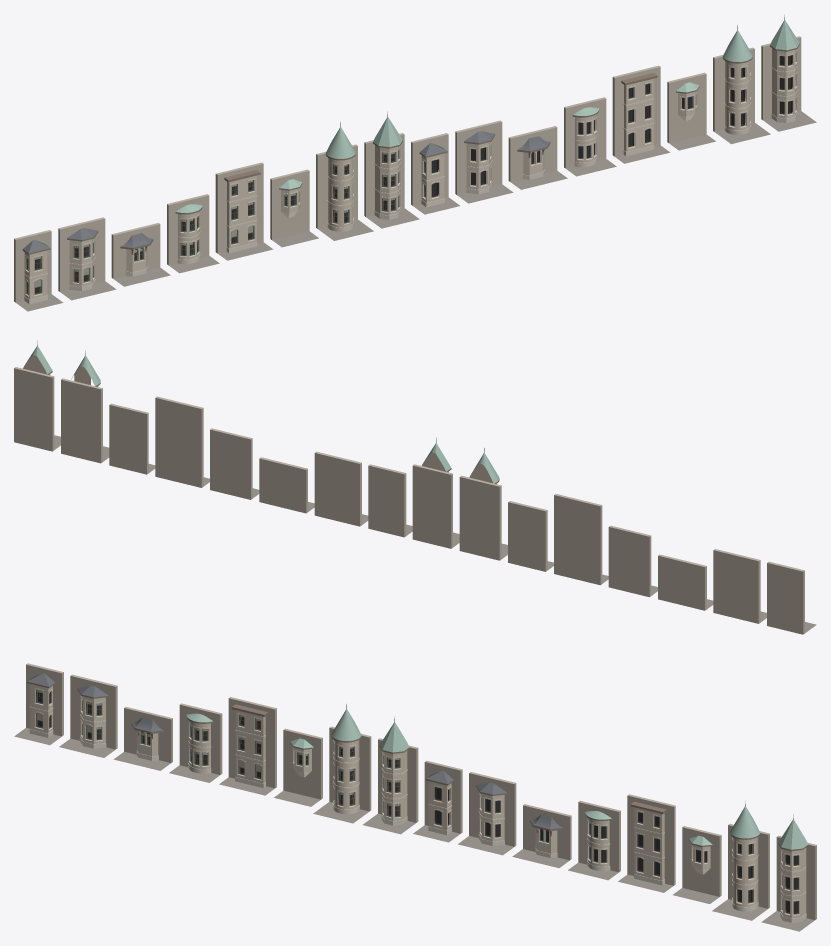
The model's file is k08_bay_kit.glb.
3 renders of one model, top to bottom at view 1: azimuth 30°, elevation 25°; view 2: azimuth 150°, elevation 25°; view 3: azimuth 330°, elevation 25°, orthographic.
Visible parts, largest first — view 1: k08.projection.full_height.full, k08.projection.full_height.light, k08.tower.round.full, k08.tower.round.light, k08.tower.octagonal.light, k08.tower.octagonal.full, k08.bay.canted.light, k08.bay.canted.full, k08.bay.bowed.full, k08.bay.bowed.light, k08.bay.rectangular.full, k08.bay.rectangular.light (+4 smaller); view 2: k08.projection.full_height.light, k08.projection.full_height.full, k08.tower.round.full, k08.tower.round.light, k08.tower.octagonal.full, k08.tower.octagonal.light, k08.bay.canted.light, k08.bay.canted.full, k08.bay.bowed.full, k08.bay.bowed.light, k08.bay.rectangular.light, k08.oriel.canted_corbelled.light (+4 smaller); view 3: k08.projection.full_height.full, k08.projection.full_height.light, k08.tower.round.full, k08.tower.round.light, k08.tower.octagonal.full, k08.tower.octagonal.light, k08.bay.canted.full, k08.bay.canted.light, k08.bay.bowed.full, k08.bay.bowed.light, k08.bay.rectangular.light, k08.bay.rectangular.full (+4 smaller).
Part boxes in pixels (x1,y1,x2,y2): k08.projection.full_height.full: (215,162,273,260); k08.projection.full_height.light: (612,65,669,163); k08.tower.round.full: (316,121,373,240); k08.tower.round.light: (713,25,770,144); k08.tower.octagonal.light: (761,14,816,131); k08.tower.octagonal.full: (364,111,419,228); k08.bay.canted.light: (455,120,513,203); k08.bay.canted.full: (58,217,116,300); k08.bay.bowed.full: (167,194,219,273); k08.bay.bowed.light: (564,97,616,176); k08.bay.rectangular.full: (14,230,63,311); k08.bay.rectangular.light: (411,133,459,214); k08.projection.full_height.light: (155,396,209,487); k08.projection.full_height.full: (554,494,608,585); k08.tower.round.full: (459,448,507,560); k08.tower.round.light: (61,350,109,463); k08.tower.octagonal.full: (412,437,459,548); k08.tower.octagonal.light: (14,340,60,451); k08.bay.canted.light: (314,451,368,526); k08.bay.canted.full: (713,549,766,623); k08.bay.bowed.full: (608,525,657,597); k08.bay.bowed.light: (210,428,259,499); k08.bay.rectangular.light: (368,464,412,537); k08.oriel.canted_corbelled.light: (109,403,155,474); k08.projection.full_height.full: (219,697,276,795); k08.projection.full_height.light: (618,794,675,892); k08.tower.round.full: (313,704,371,823); k08.tower.round.light: (712,801,769,920); k08.tower.octagonal.full: (363,716,418,834); k08.tower.octagonal.light: (761,814,816,931); k08.bay.canted.full: (59,674,117,757); k08.bay.canted.light: (458,772,516,855); k08.bay.bowed.full: (169,703,222,782); k08.bay.bowed.light: (568,800,620,880); k08.bay.rectangular.light: (413,760,462,842); k08.bay.rectangular.full: (14,663,63,745).
Size of the model in its own units: 114 by 14.51 by 4.55.
